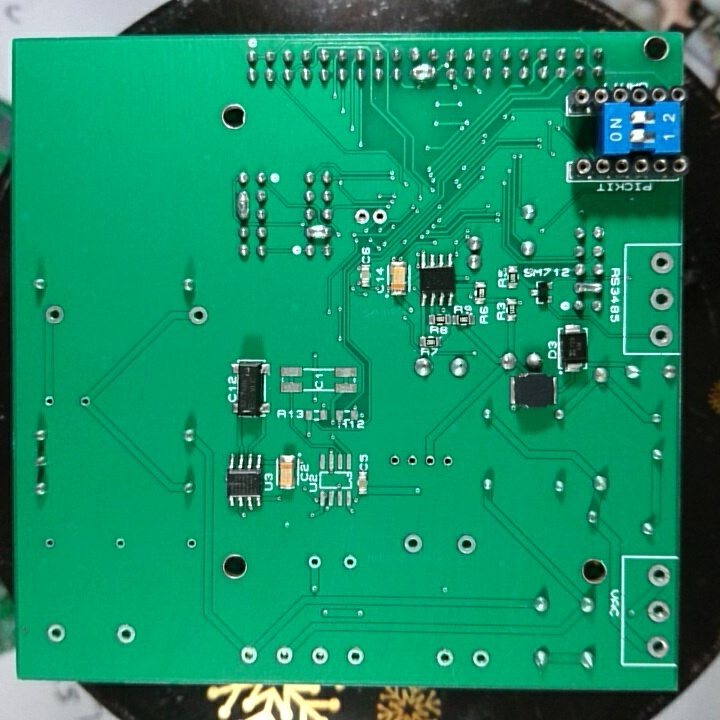F: (648, 283, 677, 314), (647, 248, 674, 277), (647, 321, 674, 349), (646, 562, 673, 589), (645, 598, 672, 625), (645, 634, 671, 661), (112, 623, 139, 649), (401, 531, 427, 557), (273, 643, 299, 668), (42, 303, 68, 328), (185, 303, 210, 328), (342, 644, 366, 670), (455, 532, 479, 557), (237, 642, 259, 669), (308, 643, 331, 667), (45, 622, 68, 646), (470, 648, 494, 670), (434, 646, 455, 670), (370, 206, 389, 229), (340, 552, 359, 573), (351, 207, 370, 228), (305, 554, 324, 572), (405, 451, 421, 472), (440, 452, 455, 472), (388, 452, 403, 471), (184, 534, 198, 554), (112, 535, 128, 552), (77, 393, 93, 410), (42, 535, 57, 553), (423, 452, 437, 470), (42, 393, 55, 411)
P: (408, 61, 438, 84), (571, 280, 604, 298), (302, 223, 332, 241), (236, 189, 252, 221)
